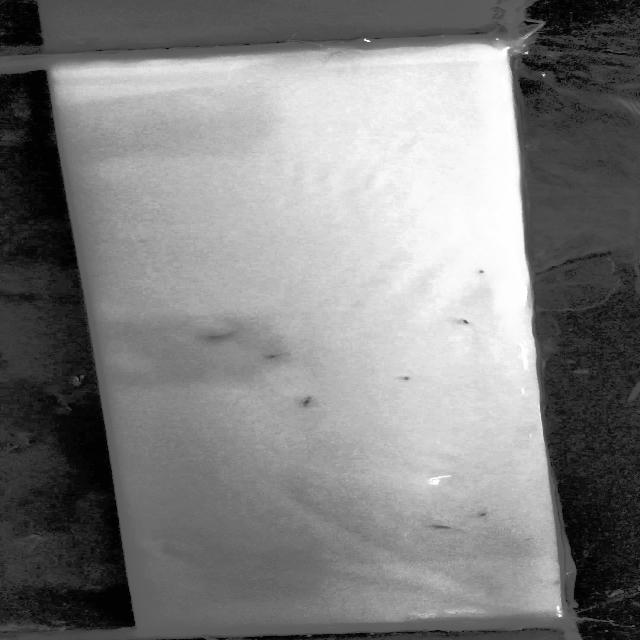shrimp: (429, 522, 475, 534), (204, 329, 244, 342), (448, 314, 476, 330), (297, 392, 321, 410), (264, 352, 292, 363), (472, 264, 492, 277), (475, 509, 492, 521), (393, 376, 416, 384)
